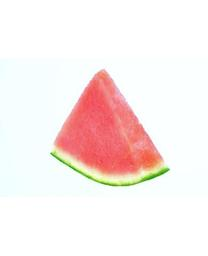watermelon: (53, 67, 171, 186)
